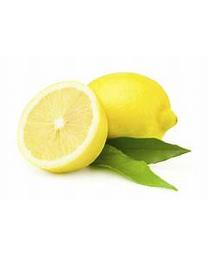lemon: (18, 80, 110, 174), (87, 73, 178, 140)
